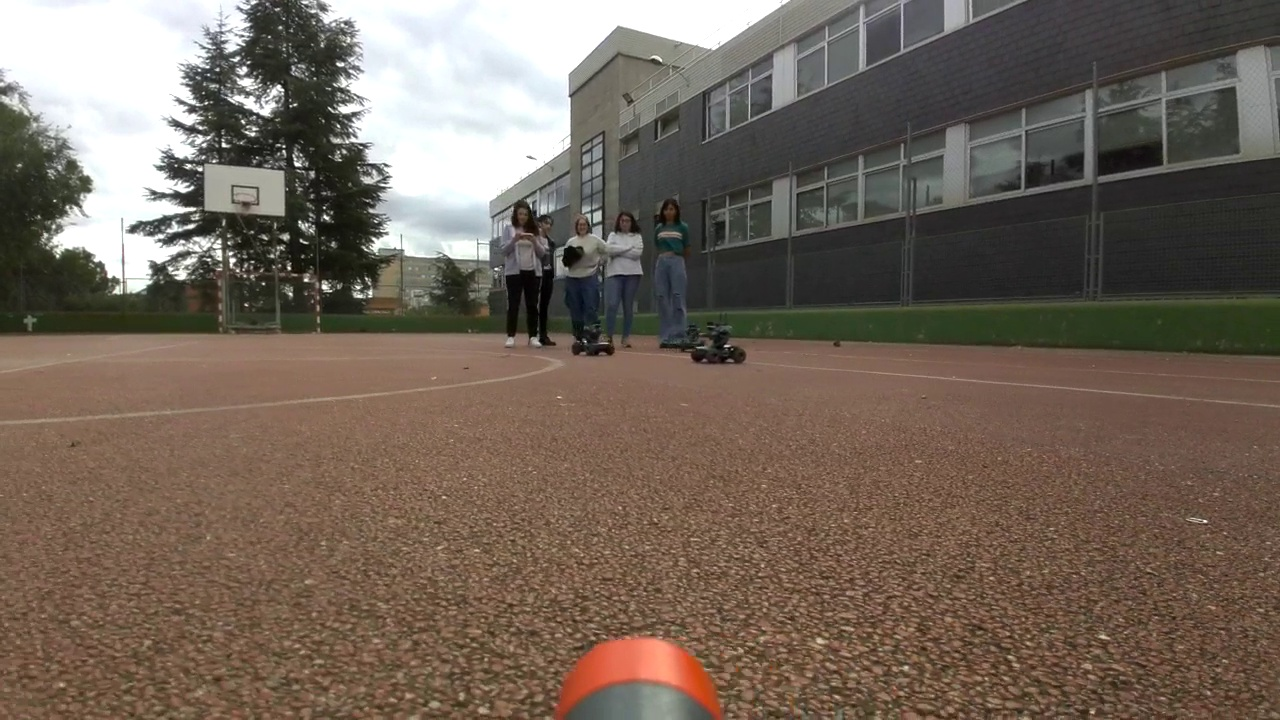robot: (692, 322, 745, 364), (572, 322, 611, 356), (680, 324, 706, 351)
